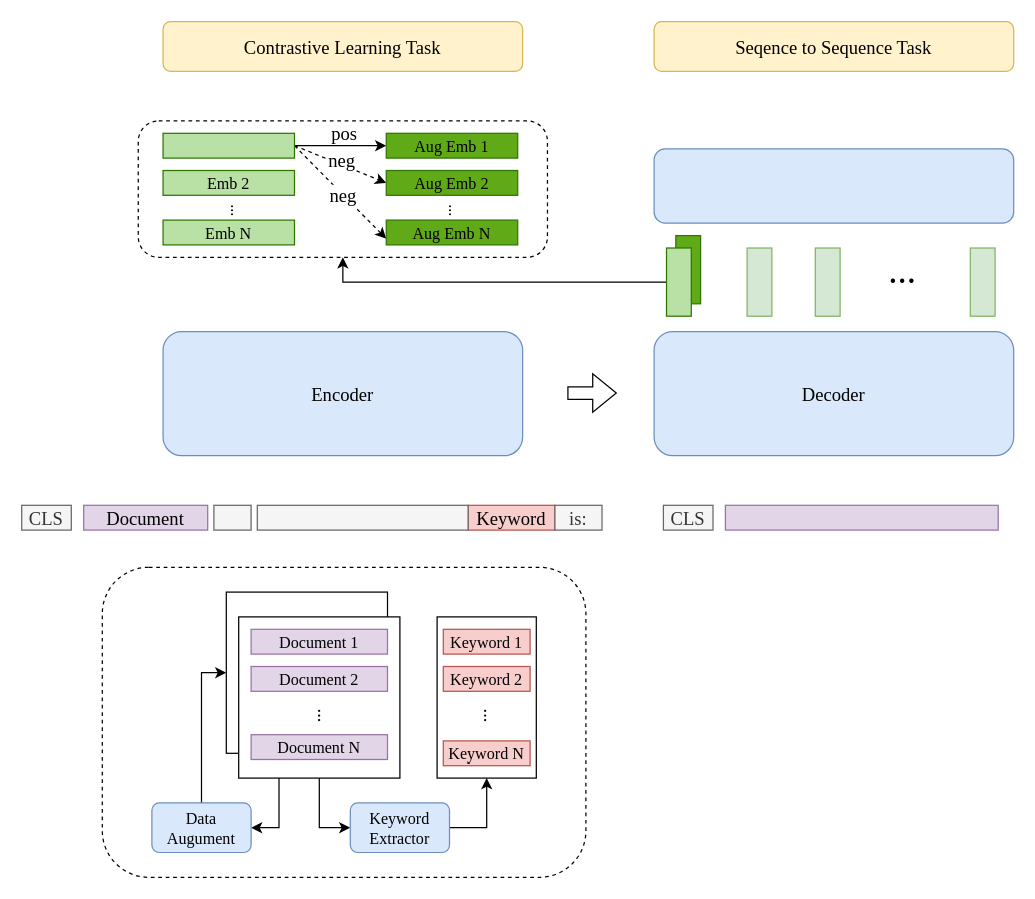
Image size: 1035x899. Some labels were removed from this diagram. The box of each missing label's shape, as (x1, y1, x2, y2) in pixels:
Emb 1: (162, 132, 294, 158)
Ground Truth Summary: (724, 504, 998, 530)
Linear Head: (653, 148, 1014, 223)
SEP: (213, 504, 251, 530)
The summary related to: (256, 504, 468, 530)
